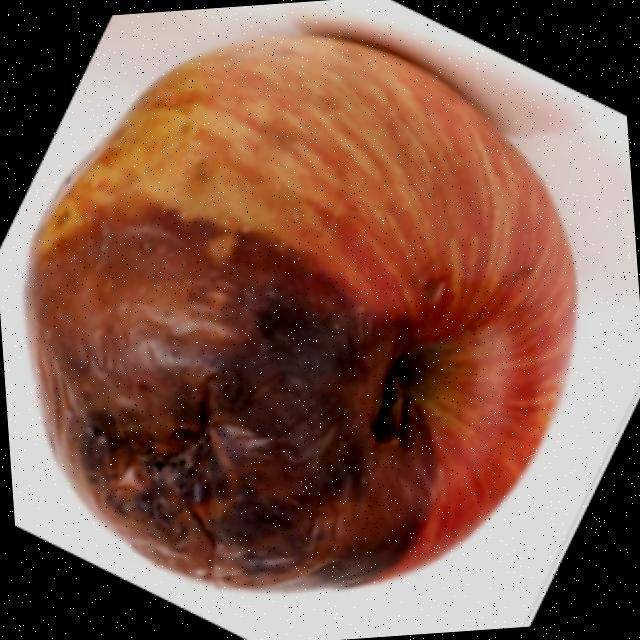Rotten: (0, 10, 601, 618)
